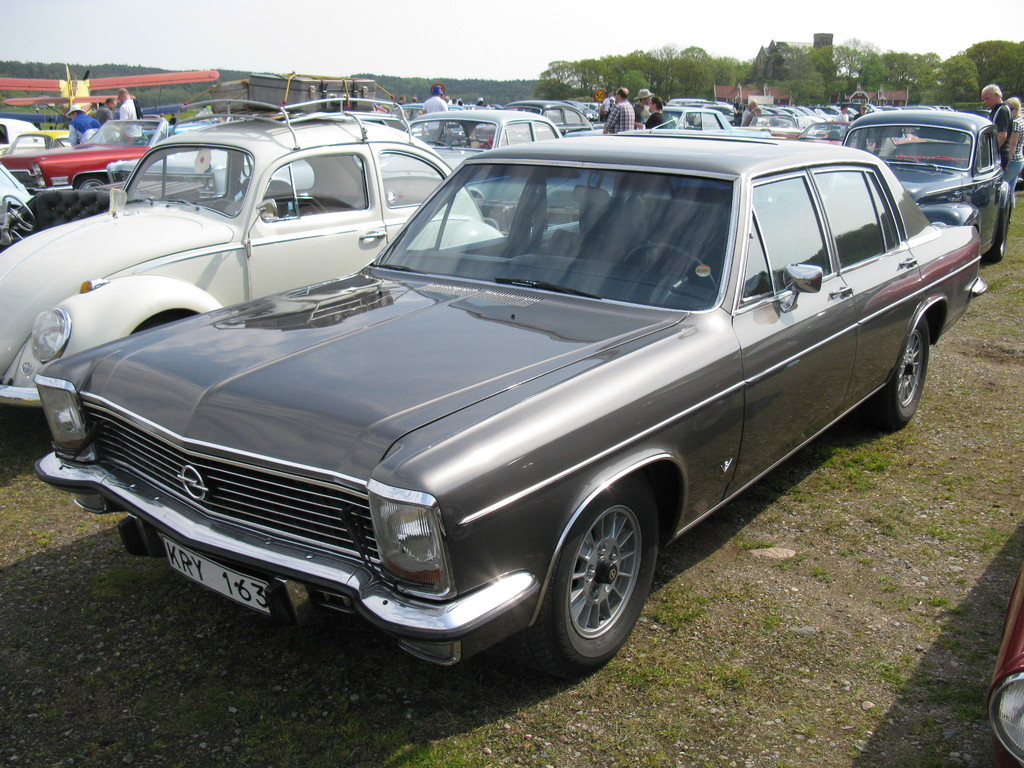Car: (0, 99, 1019, 404), (986, 564, 1023, 767)
